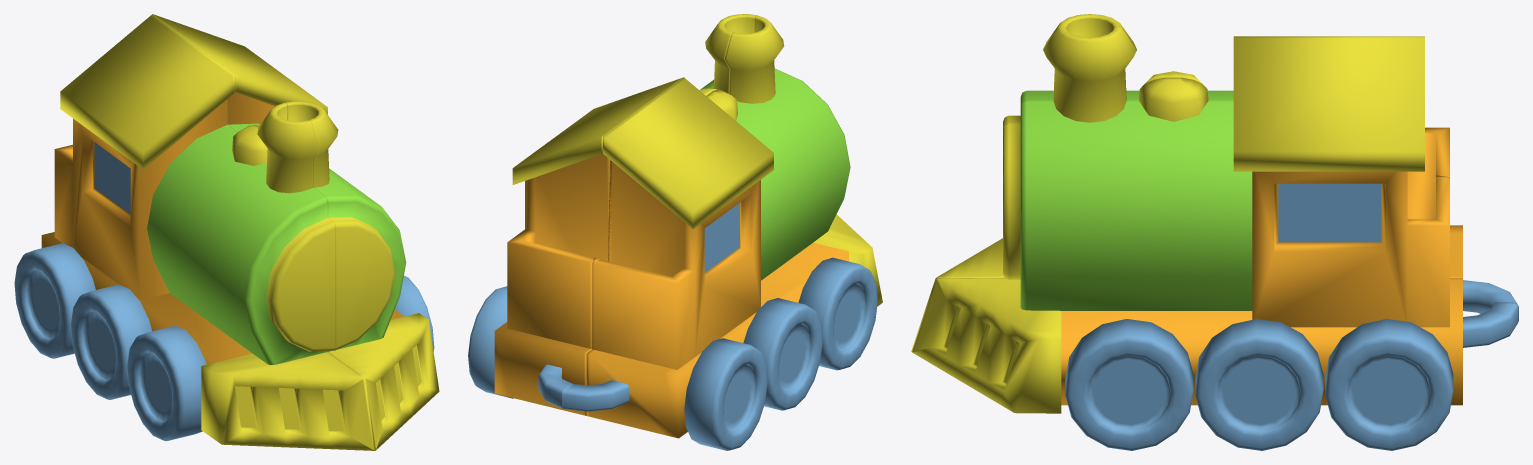
Rendered from SM_Train_01a.fbx.
3 renders of one model, left to right at view 1: azimuth 30°, elevation 25°; view 2: azimuth 150°, elevation 25°; view 3: azimuth 270°, elevation 25°, orthographic. The views are drawn at different scales.
Visible parts, largest first — view 1: Train_02, Train_01; view 2: Train_02, Train_01; view 3: Train_01, Train_02.
Part boxes in pixels (<box>): Train_02: <box>14,14,375,450</box>; Train_01: <box>153,14,439,450</box>; Train_02: <box>563,15,882,450</box>; Train_01: <box>468,14,756,415</box>; Train_01: <box>911,26,1518,450</box>; Train_02: <box>936,14,1517,313</box>.
Bounding box in the file's own units: 26.05 × 30 × 46.6.
